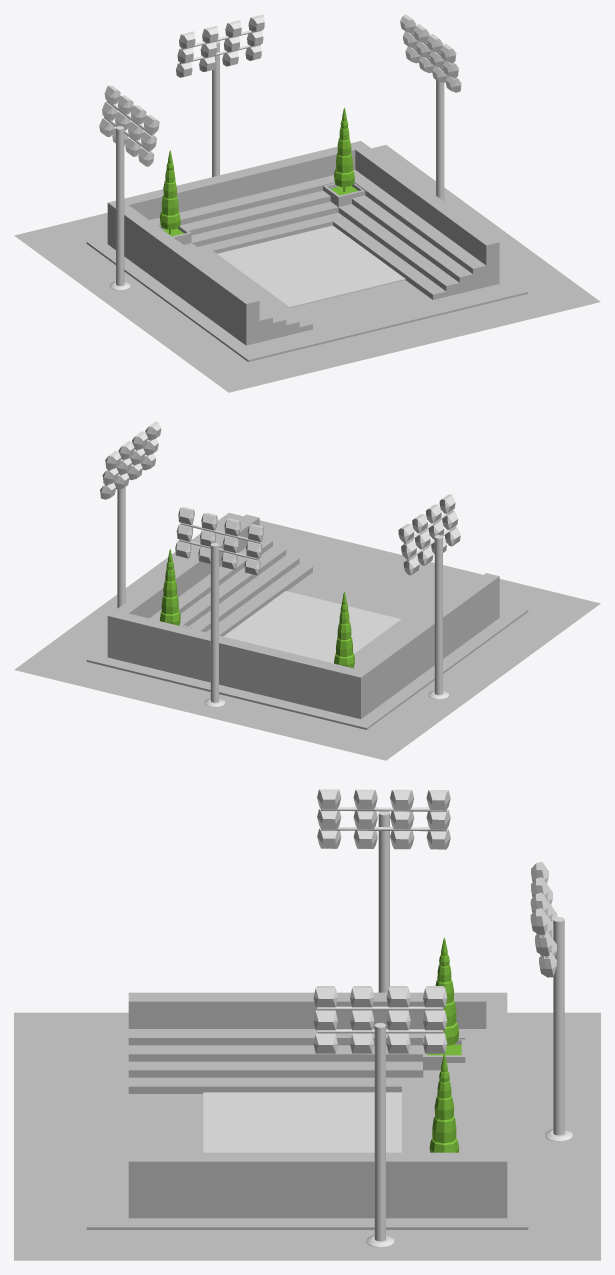
The model's file is Arena Color.fbx.
3 views of the same model, one above another, from view 1: azimuth 30°, elevation 25°; view 2: azimuth 150°, elevation 25°; view 3: azimuth 270°, elevation 25° (orthographic). The views are drawn at different scales.
Visible parts, largest first — view 1: Arena 3.001, Plane, Arena 3, Poste Luz.002, Poste Luz.003, Poste Luz.001, Arbusto.001; view 2: Arena 3.001, Plane, Arena 3, Poste Luz.003, Poste Luz.002, Poste Luz.001, Arbusto.001; view 3: Arena 3.001, Plane, Arena 3, Poste Luz.001, Poste Luz.002, Poste Luz.003, Arbusto.001.
Boxes of the visible parts, x1,y1,x2,y2 form: Arena 3.001: (86,141,528,361); Plane: (14,145,600,392); Arena 3: (217,225,405,307); Poste Luz.002: (99,85,159,290); Poste Luz.003: (176,14,264,176); Poste Luz.001: (400,14,461,201); Arbusto.001: (158,107,365,244); Arena 3.001: (86,514,528,729); Plane: (14,513,600,760); Arena 3: (223,591,400,663); Poste Luz.003: (175,507,263,707); Poste Luz.002: (398,494,460,699); Poste Luz.001: (100,421,161,608); Arbusto.001: (159,549,356,668); Arena 3.001: (86,992,528,1229); Plane: (14,1012,600,1260); Arena 3: (203,1092,401,1152); Poste Luz.001: (313,986,447,1247); Poste Luz.002: (317,789,450,992); Poste Luz.003: (530,862,572,1141); Arbusto.001: (423,937,465,1152).
Bounding box in the file's own units: 14494 × 6954 × 14494.
